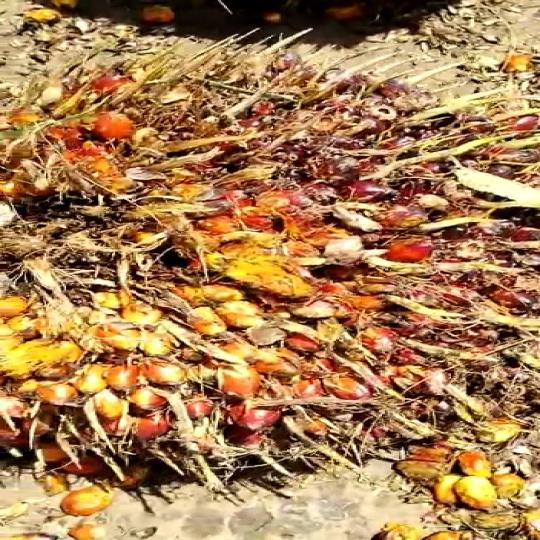masak: (0, 53, 540, 487)
